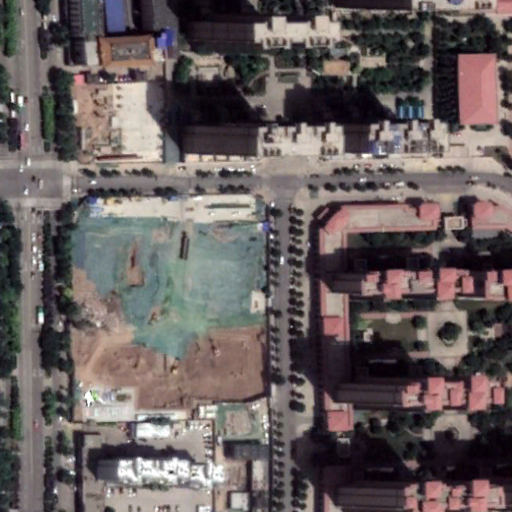cw: (76, 218, 269, 410)
